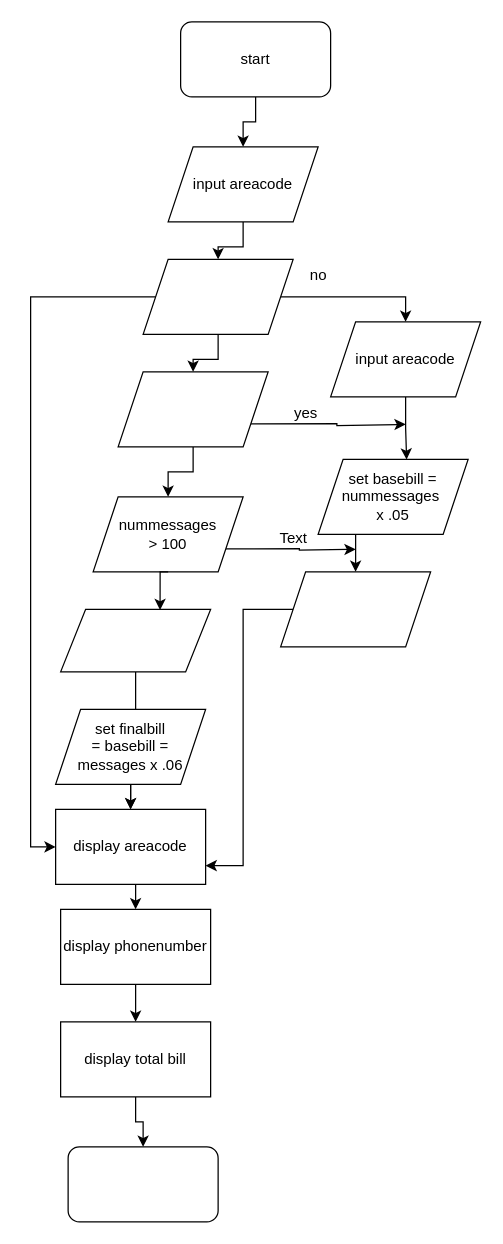
Image size: 503x1244. Some labels were removed from this diagram. The centre of each missing label's shape, as x and y in pixels:
areacode = selected area code: the point at 192,409
end: the point at 142,1184
nummessages = -1: the point at 217,296
set basebill = numnessages x.05: the point at 135,640
set totalbill = basebill + basebill: the point at 355,609
